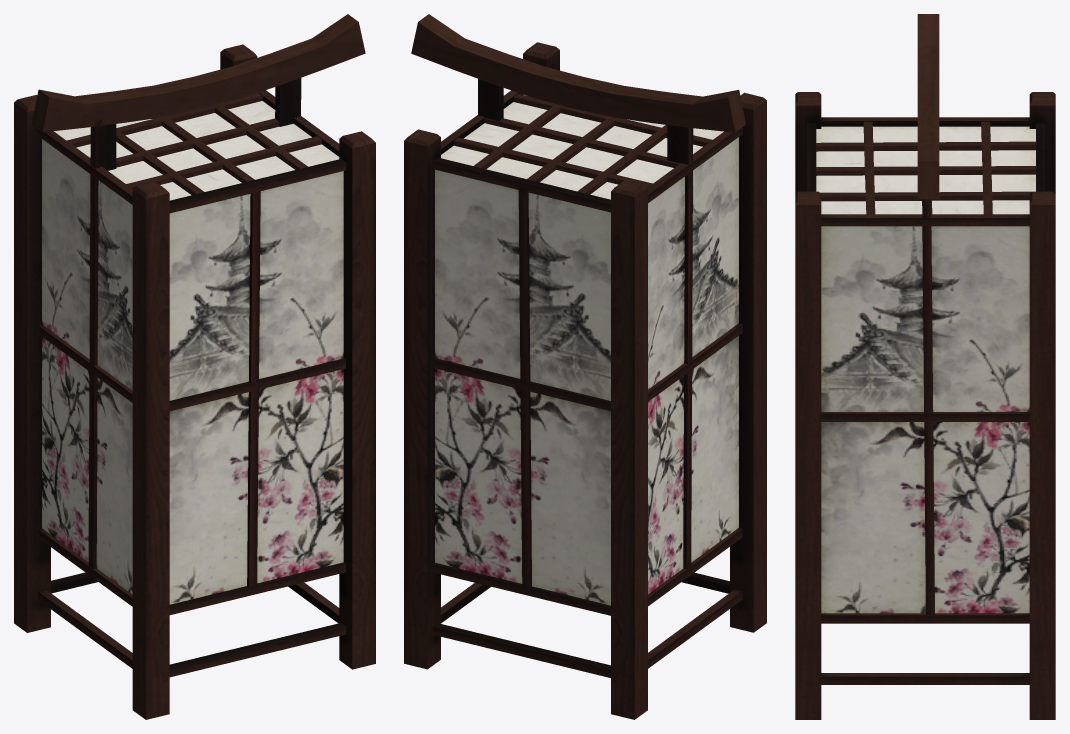
Rendered from Lantern4.c.fbx.
3 renders of one model, left to right at view 1: azimuth 30°, elevation 25°; view 2: azimuth 150°, elevation 25°; view 3: azimuth 270°, elevation 25°, orthographic.
Parts seen in each view (by area): view 1: Group 0; view 2: Group 0; view 3: Group 0.
Boxes of the visible parts, x1=… form: Group 0: x1=14, y1=14, x2=375, y2=719; Group 0: x1=404, y1=14, x2=766, y2=719; Group 0: x1=795, y1=14, x2=1055, y2=719.
Bounding box in the file's own units: 31.66 × 54.84 × 22.39.
Materials: 2 (2 with a texture image).
